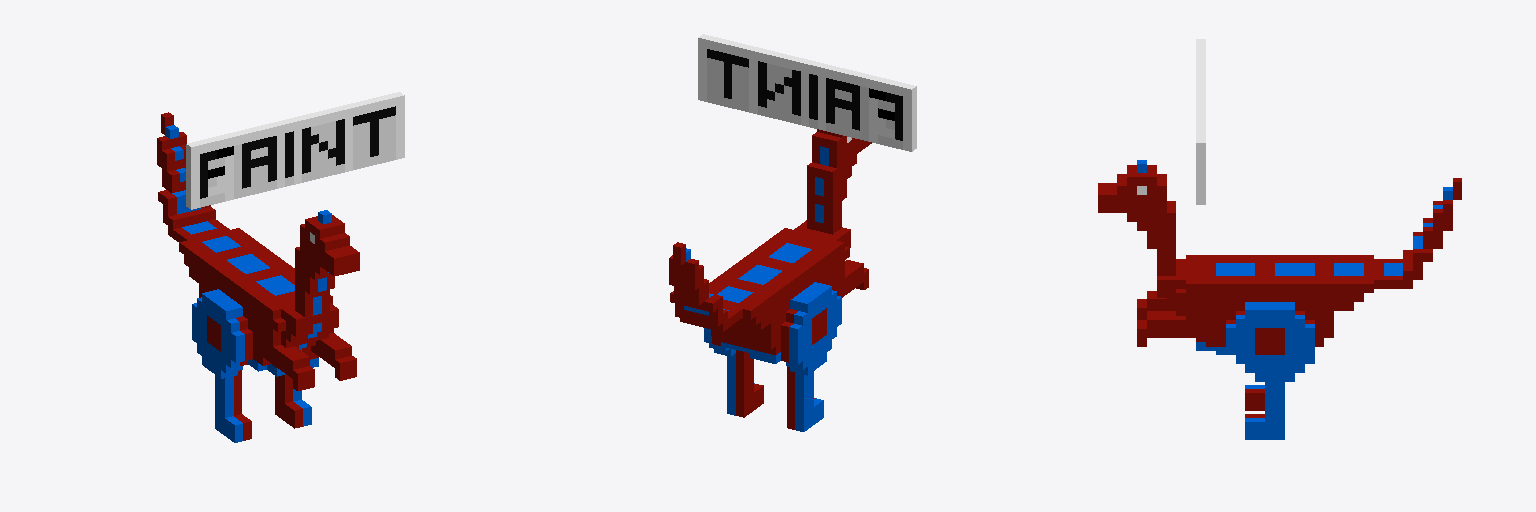
3 views of the same model, side by side, from view 1: azimuth 30°, elevation 25°; view 2: azimuth 150°, elevation 25°; view 3: azimuth 270°, elevation 25° (orthographic).
Parts seen in each view (by area): view 1: Matrix_34; view 2: Matrix_34; view 3: Matrix_34.
Part boxes in pixels (x1,y1,x2,y2): Matrix_34: (157,92,404,442); Matrix_34: (669,34,916,431); Matrix_34: (1098,39,1461,439).
Size of the model in its own units: 25 by 37 by 37.
Materials: 1 (1 with a texture image).